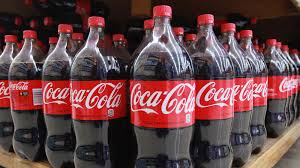coke-bottle-2l: (130, 3, 200, 167), (68, 13, 129, 168), (4, 29, 43, 168), (39, 13, 74, 166), (200, 14, 233, 168), (232, 19, 254, 168)
